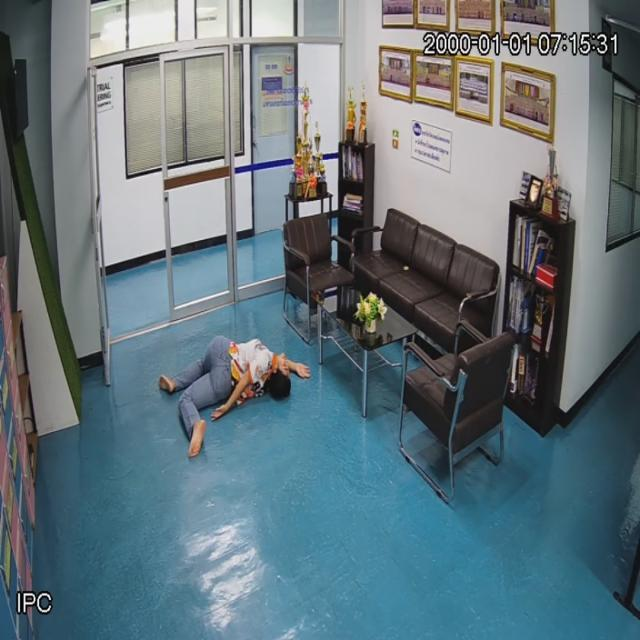fall: (160, 331, 300, 469)
